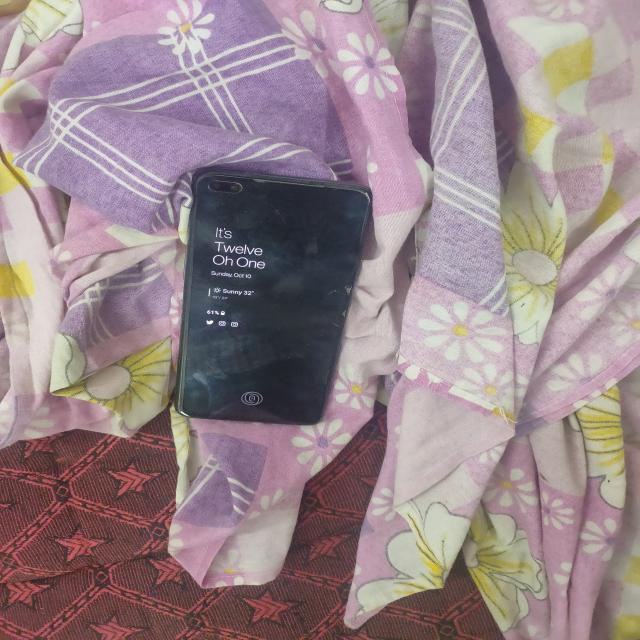Phone: (170, 161, 378, 430)
